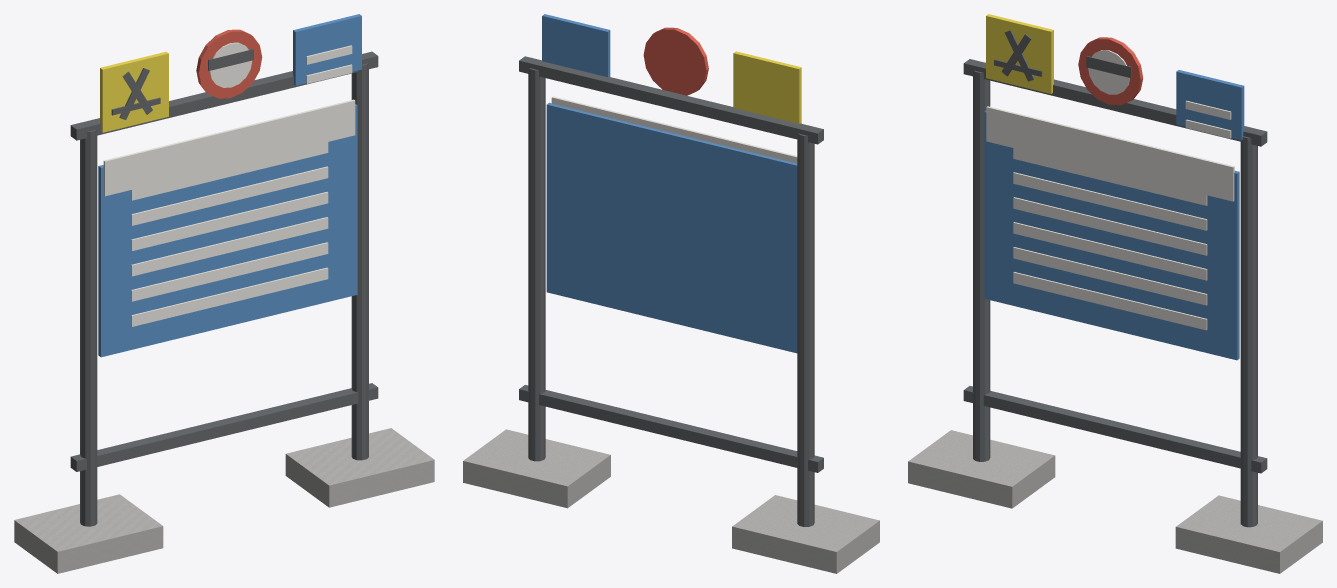
File: demolition-and-site-clearance-demolition-and-site-clea-85ffcaf0__35708.glb
3 views of the same model, side by side, from view 1: azimuth 30°, elevation 25°; view 2: azimuth 150°, elevation 25°; view 3: azimuth 330°, elevation 25° (orthographic).
Visible parts, largest first — view 1: demolition-and-site-clearance-site-signage-set; view 2: demolition-and-site-clearance-site-signage-set; view 3: demolition-and-site-clearance-site-signage-set.
Boxes of the visible parts, x1,y1,x2,y2 form: demolition-and-site-clearance-site-signage-set: (14, 14, 434, 573); demolition-and-site-clearance-site-signage-set: (463, 14, 879, 573); demolition-and-site-clearance-site-signage-set: (908, 14, 1322, 573).
Size of the model in its own units: 2.5 by 3.07 by 0.4999.
Materials: 6 (1 with a texture image).
